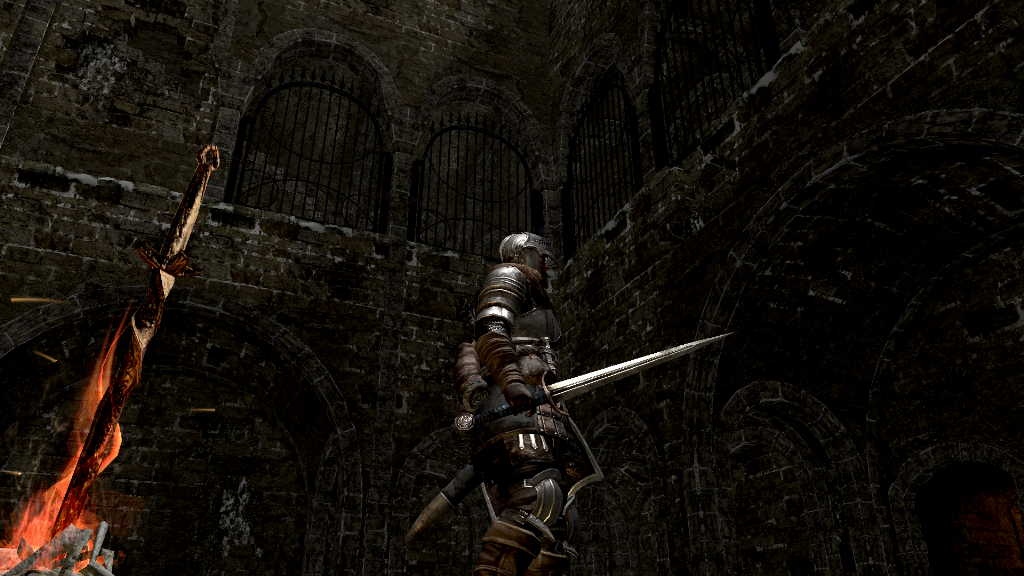bonfire: (1, 141, 232, 576)
player: (455, 230, 737, 576)
